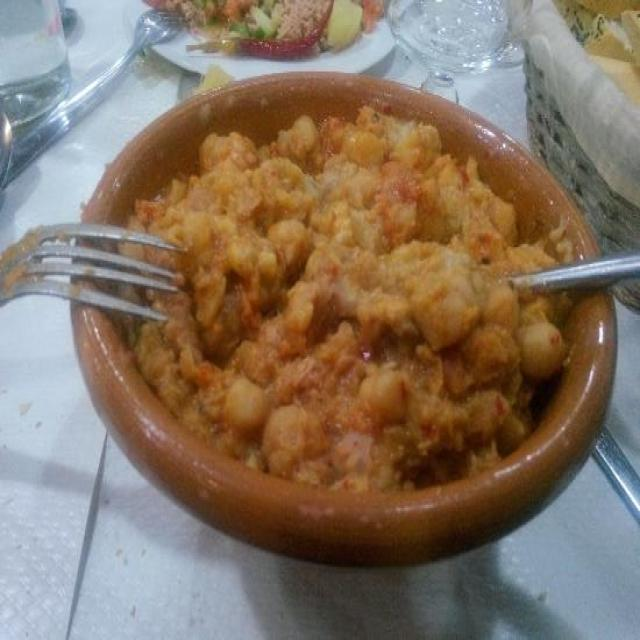Lablabi: (98, 90, 610, 514)
